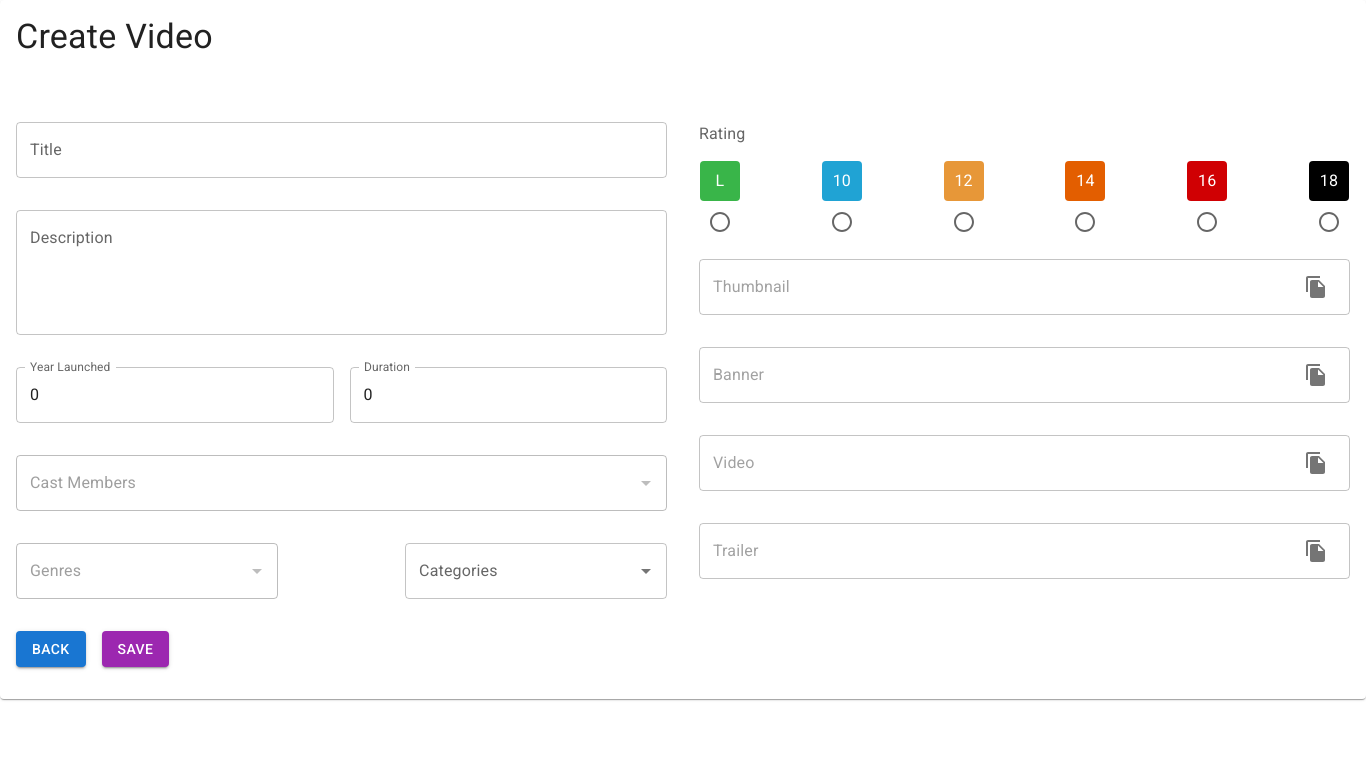
VideosCreate › should handle submit error
The image size is (1366, 768).
In the field with test id "title": [342, 150] box [16, 122, 667, 178], type "Test Video"
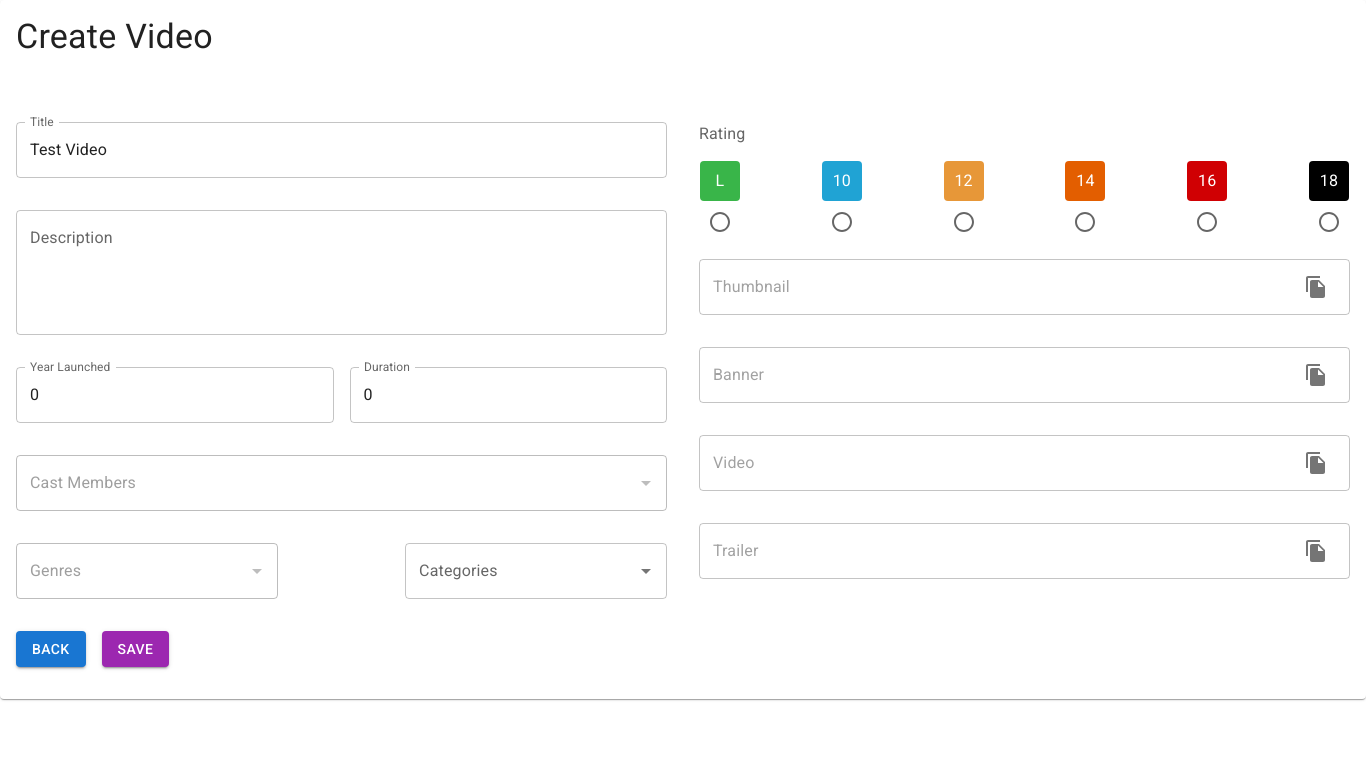
In the text box with test id "description": [342, 272] box [30, 226, 653, 318], type "Test description"
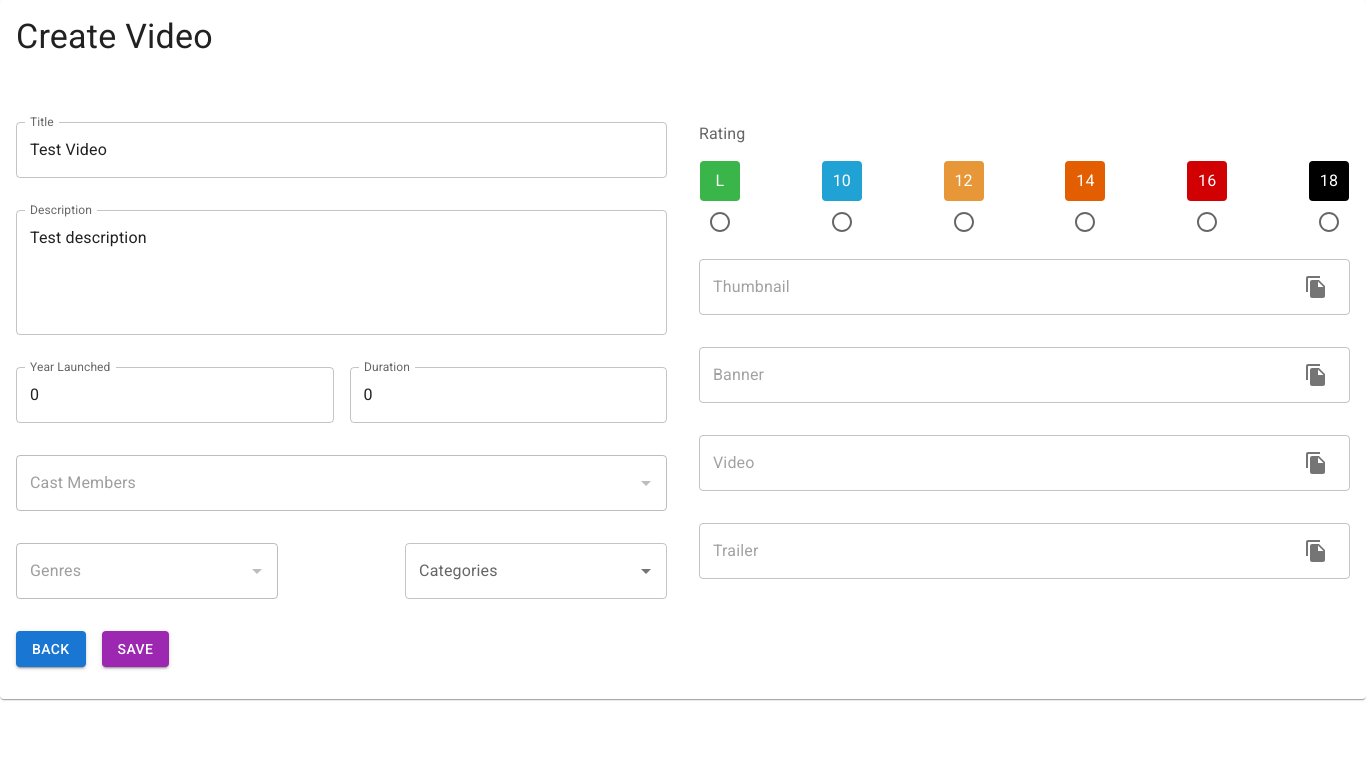
Replace the text in the field with test id "year_launched" with "2022": [175, 395] box [16, 367, 334, 423]
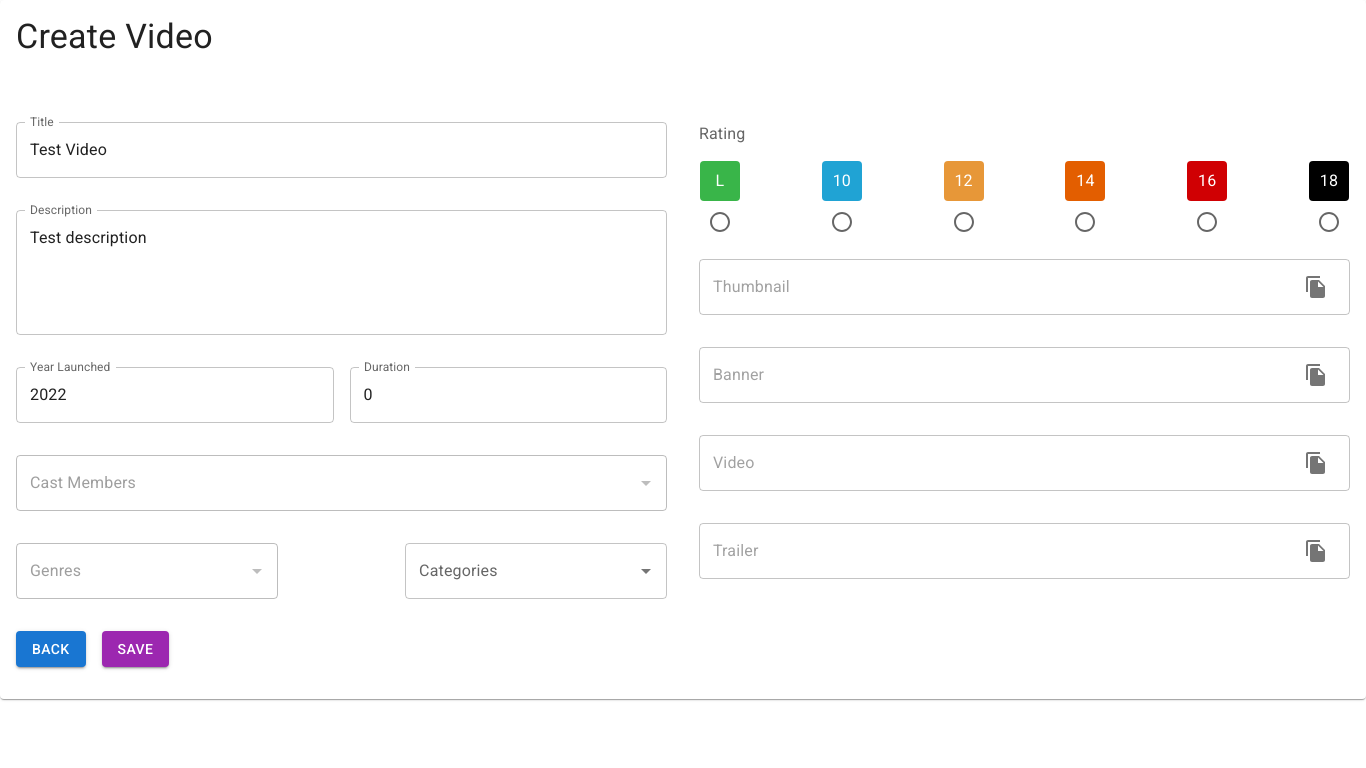
Replace the text in the field with test id "duration" with "120": [508, 395] box [350, 367, 667, 423]
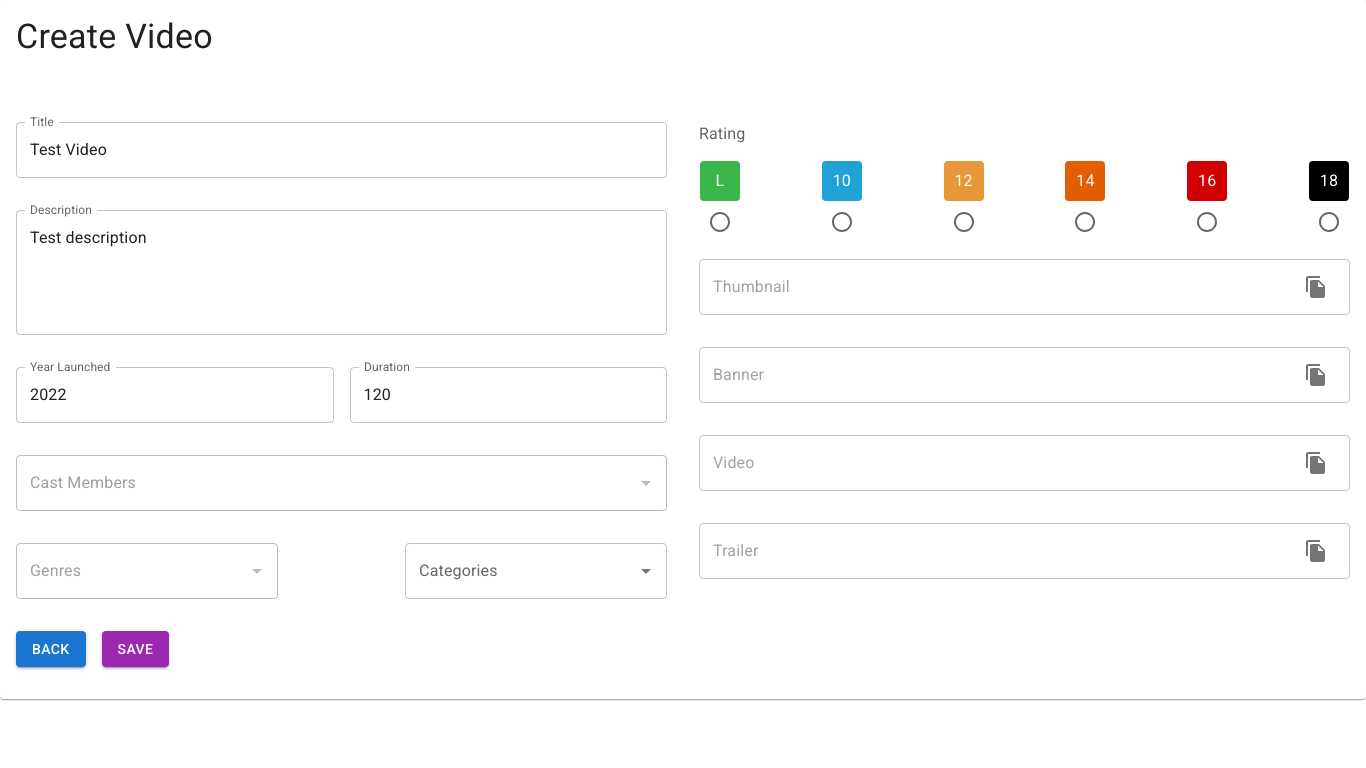
Click the button "Save": [136, 649] box [102, 631, 169, 668]
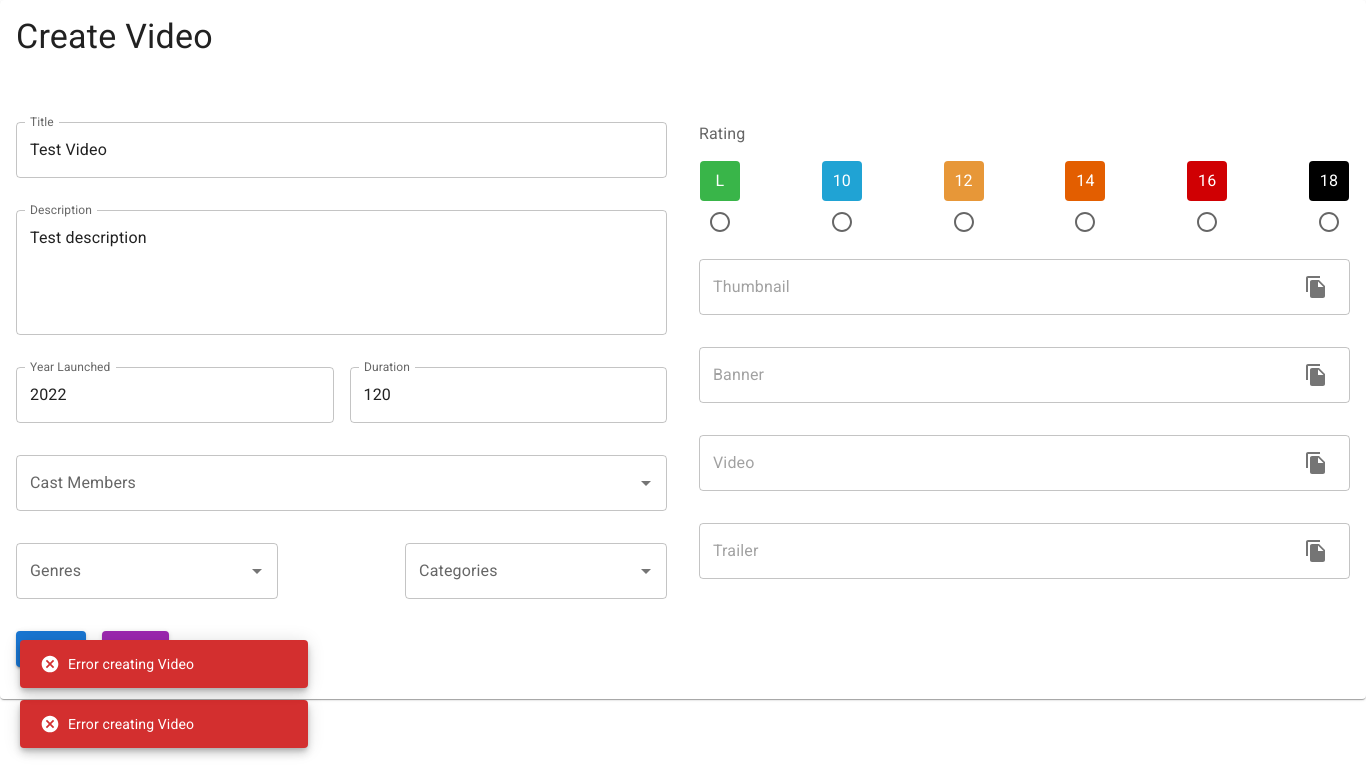
Check: the text "Error creating Video" is shown 2 times, box [40, 714, 194, 734]; [40, 654, 194, 674]
